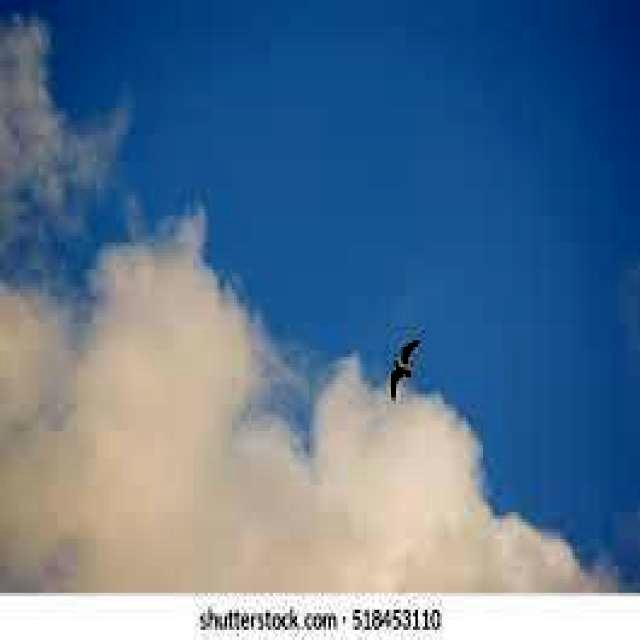bird: (386, 336, 421, 406)
